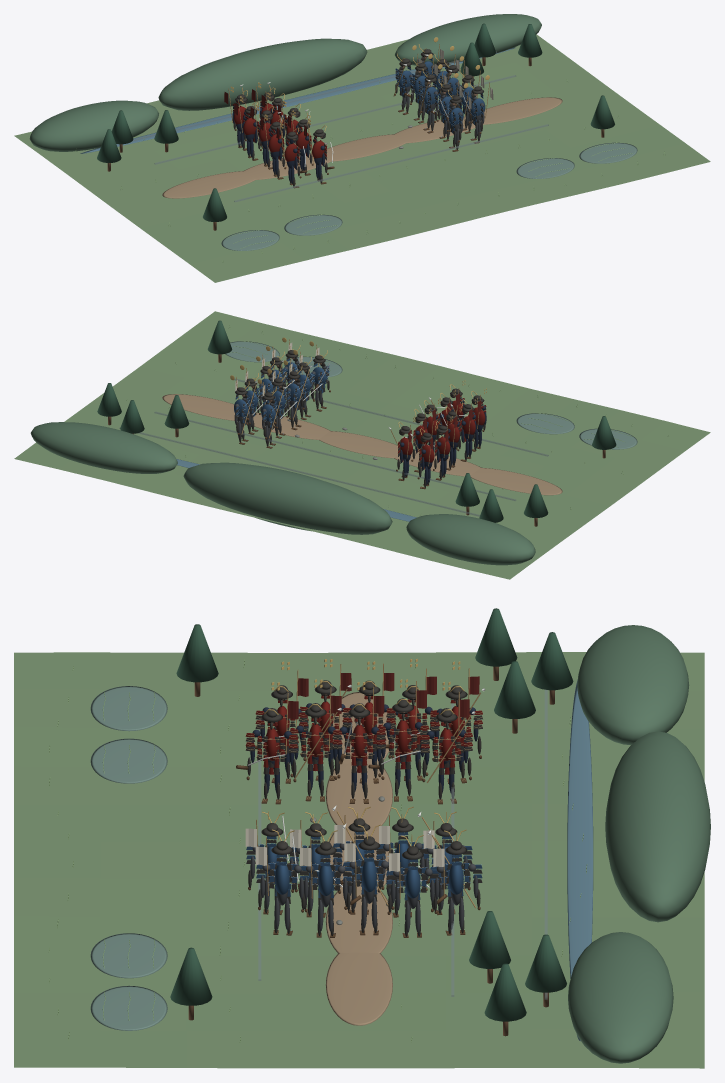
File: samurai_battlefield_pack.glb
3 views of the same model, one above another, from view 1: azimuth 30°, elevation 25°; view 2: azimuth 150°, elevation 25°; view 3: azimuth 270°, elevation 25° (orthographic). The views are drawn at different scales.
Visible parts, largest first — view 1: rolling shinano countryside battlefield ground, distant center mountain ridge, distant left cedar hill, distant right cedar hill, narrow blue river channel, worn muddy road oval, worn muddy road oval.004, worn muddy road oval.002, flooded rice paddy 2, flooded rice paddy 4, flooded rice paddy 3, flooded rice paddy 1 (+13 smaller); view 2: rolling shinano countryside battlefield ground, distant center mountain ridge, distant right cedar hill, distant left cedar hill, worn muddy road oval, worn muddy road oval.002, worn muddy road oval.004, flooded rice paddy 2, worn muddy road oval.003, low dawn mist band.002, flooded rice paddy 4, low dawn mist band.001 (+12 smaller); view 3: rolling shinano countryside battlefield ground, distant center mountain ridge, distant right cedar hill, distant left cedar hill, narrow blue river channel, worn muddy road oval.004, worn muddy road oval.001, worn muddy road oval.003, flooded rice paddy 2, flooded rice paddy 3, flooded rice paddy 4, flooded rice paddy 1 (+11 smaller).
Boxes of the visible parts, bbox=[...] form: rolling shinano countryside battlefield ground: bbox=[14, 34, 710, 282]; distant center mountain ridge: bbox=[158, 38, 367, 110]; distant left cedar hill: bbox=[29, 100, 158, 151]; distant right cedar hill: bbox=[395, 14, 541, 65]; narrow blue river channel: bbox=[80, 47, 515, 153]; worn muddy road oval: bbox=[162, 171, 255, 198]; worn muddy road oval.004: bbox=[481, 97, 562, 124]; worn muddy road oval.002: bbox=[327, 134, 405, 161]; flooded rice paddy 2: bbox=[284, 214, 342, 235]; flooded rice paddy 4: bbox=[579, 142, 637, 163]; flooded rice paddy 3: bbox=[516, 158, 574, 178]; flooded rice paddy 1: bbox=[221, 230, 279, 250]; rolling shinano countryside battlefield ground: bbox=[14, 311, 710, 579]; distant center mountain ridge: bbox=[183, 462, 392, 534]; distant right cedar hill: bbox=[30, 422, 177, 473]; distant left cedar hill: bbox=[406, 514, 535, 565]; worn muddy road oval: bbox=[470, 467, 562, 495]; worn muddy road oval.002: bbox=[319, 431, 397, 458]; worn muddy road oval.004: bbox=[162, 394, 234, 420]; flooded rice paddy 2: bbox=[516, 413, 574, 434]; worn muddy road oval.003: bbox=[247, 412, 330, 439]; low dawn mist band.002: bbox=[119, 427, 479, 516]; flooded rice paddy 4: bbox=[225, 341, 279, 362]; low dawn mist band.001: bbox=[154, 411, 515, 500]; rolling shinano countryside battlefield ground: bbox=[14, 652, 704, 1068]; distant center mountain ridge: bbox=[605, 731, 710, 922]; distant right cedar hill: bbox=[568, 932, 673, 1063]; distant left cedar hill: bbox=[577, 625, 689, 745]; narrow blue river channel: bbox=[567, 680, 593, 1041]; worn muddy road oval.004: bbox=[325, 952, 392, 1025]; worn muddy road oval.001: bbox=[325, 763, 392, 826]; worn muddy road oval.003: bbox=[325, 889, 392, 953]; flooded rice paddy 2: bbox=[90, 738, 167, 783]; flooded rice paddy 3: bbox=[90, 933, 167, 978]; flooded rice paddy 4: bbox=[90, 985, 167, 1030]; flooded rice paddy 1: bbox=[90, 686, 167, 731].
Size of the model in its own units: 16.1 by 2.32 by 11.2.
